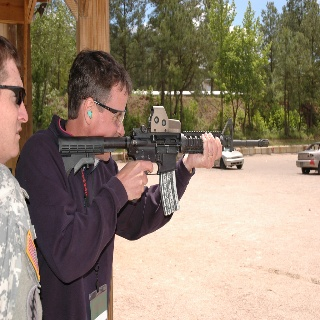shotgun: (54, 104, 272, 219)
